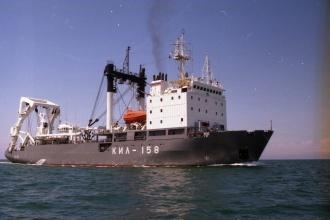Cargoship: (8, 36, 281, 168)
